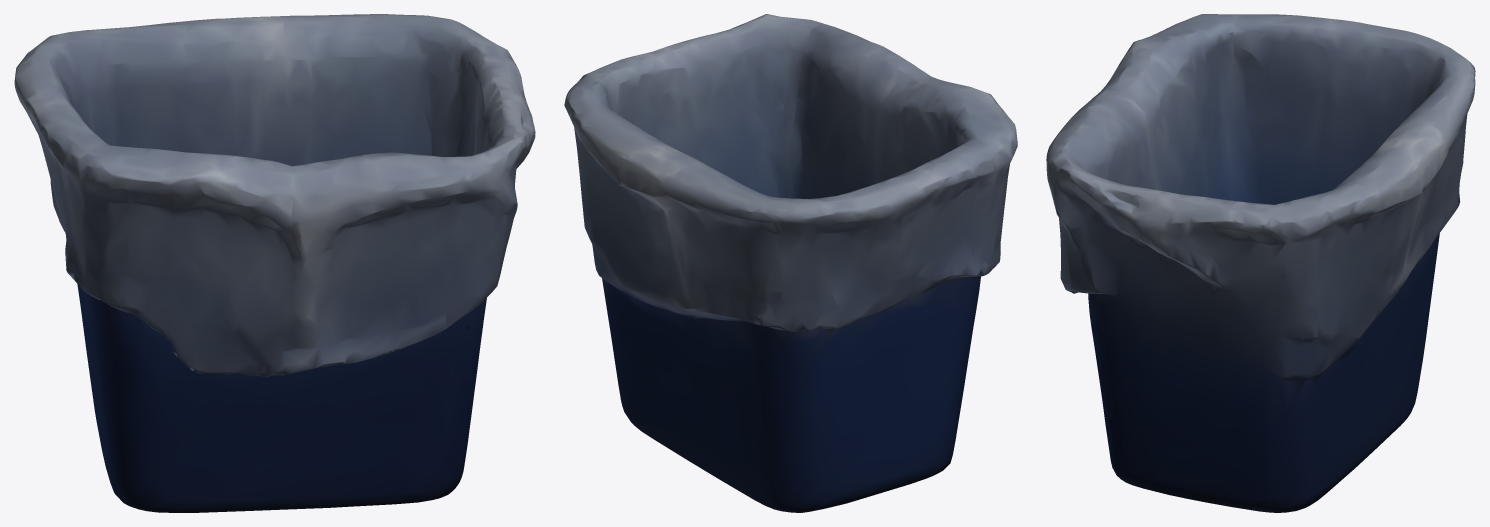
3 views of the same model, side by side, from view 1: azimuth 30°, elevation 25°; view 2: azimuth 150°, elevation 25°; view 3: azimuth 270°, elevation 25° (orthographic). The views are drawn at different scales.
Visible parts, largest first — view 1: instance_0001; view 2: instance_0001; view 3: instance_0001.
Part boxes in pixels (<box>): instance_0001: <box>14,14,535,512</box>; instance_0001: <box>564,14,1017,512</box>; instance_0001: <box>1046,14,1475,512</box>.
Size of the model in its own units: 0.6404 by 0.5188 by 0.5853.
